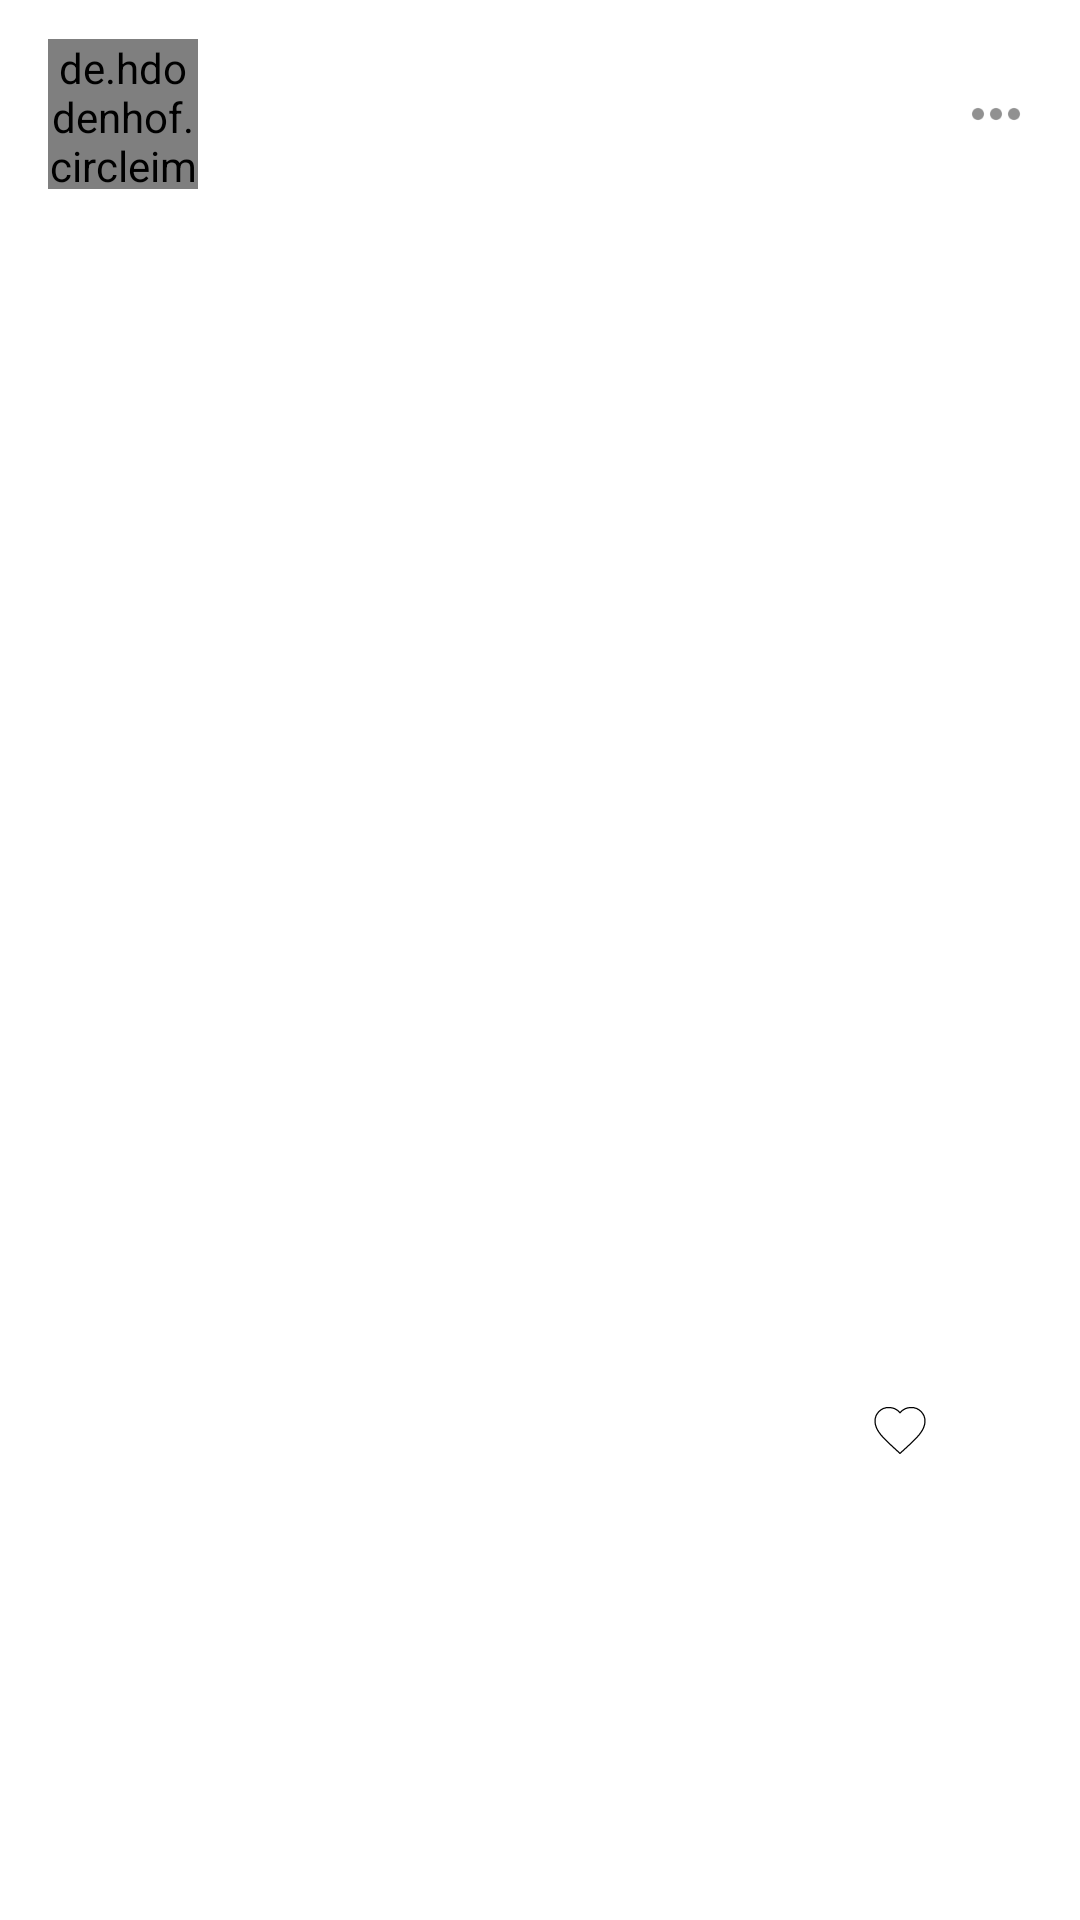

Screen size 1080px x 1920px. Icon name, then its center in pixels as (x=x, y=y):
heart: (x=900, y=1430)
